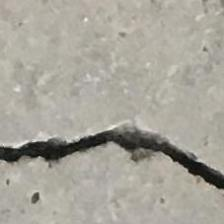Crack: (0, 118, 224, 197)
